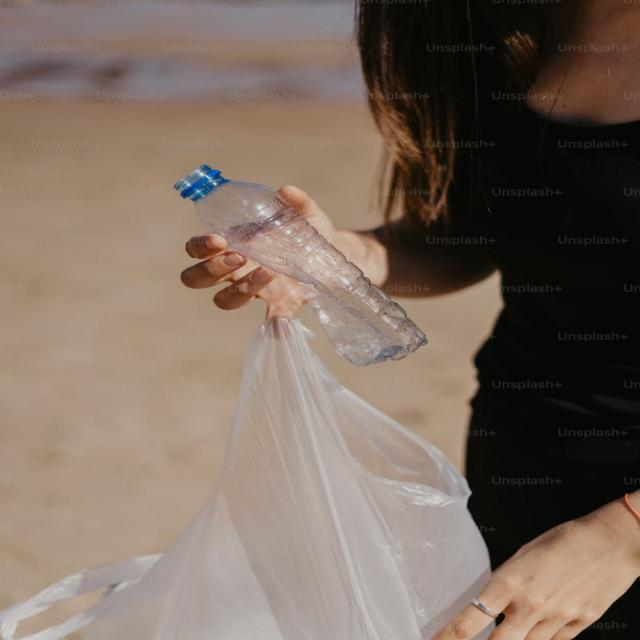plastic: (130, 406, 507, 640), (159, 154, 436, 386)
